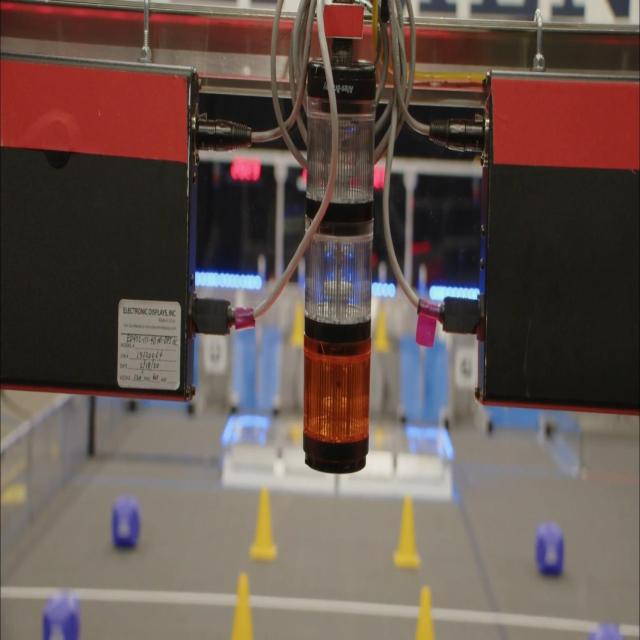frc_cone: (248, 486, 278, 563), (392, 492, 420, 567), (230, 572, 256, 640), (414, 587, 434, 639)
frc_cube: (43, 590, 82, 640), (111, 495, 141, 551), (534, 522, 566, 574), (587, 621, 625, 639)
